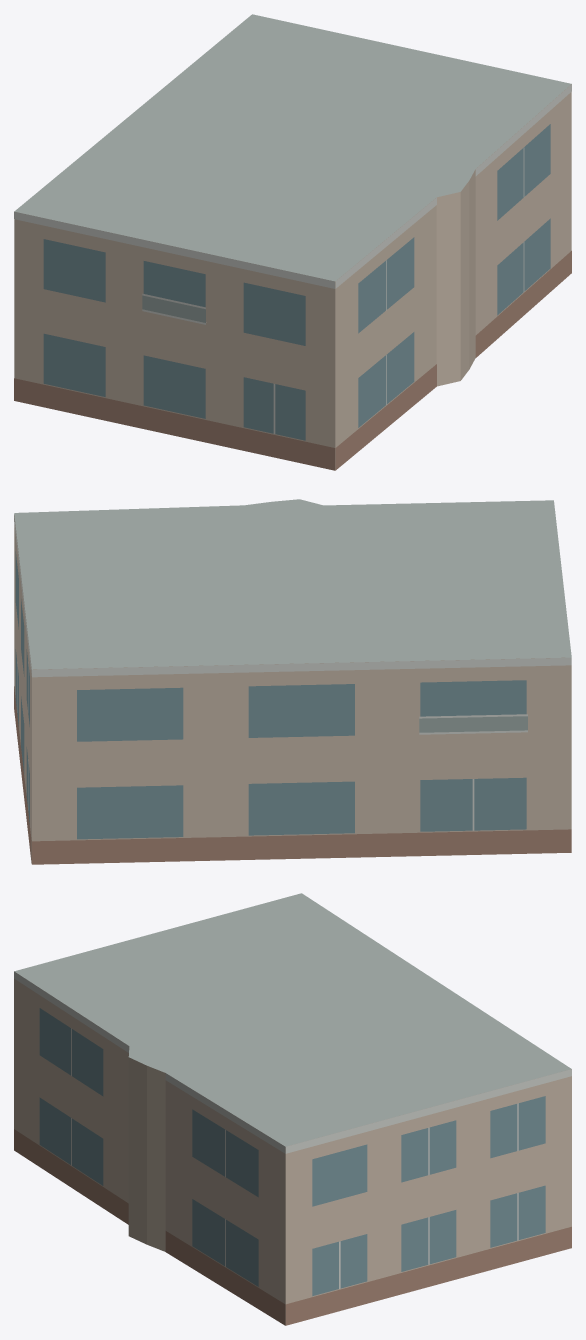
Rendered from survey-upis-32625524.glb.
3 views of the same model, one above another, from view 1: azimuth 30°, elevation 25°; view 2: azimuth 150°, elevation 25°; view 3: azimuth 270°, elevation 25° (orthographic). The views are drawn at different scales.
Visible parts, largest first — view 1: survey-upis-32625524.tmp; view 2: survey-upis-32625524.tmp; view 3: survey-upis-32625524.tmp.
Part boxes in pixels (left/top/right/bottom): survey-upis-32625524.tmp: left=14, top=14, right=571, bottom=470; survey-upis-32625524.tmp: left=14, top=499, right=571, bottom=864; survey-upis-32625524.tmp: left=14, top=893, right=571, bottom=1325.
Size of the model in its own units: 18.54 by 6.1 by 17.23.
